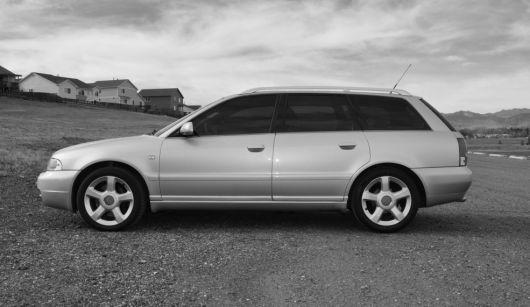car: (36, 63, 478, 234)
